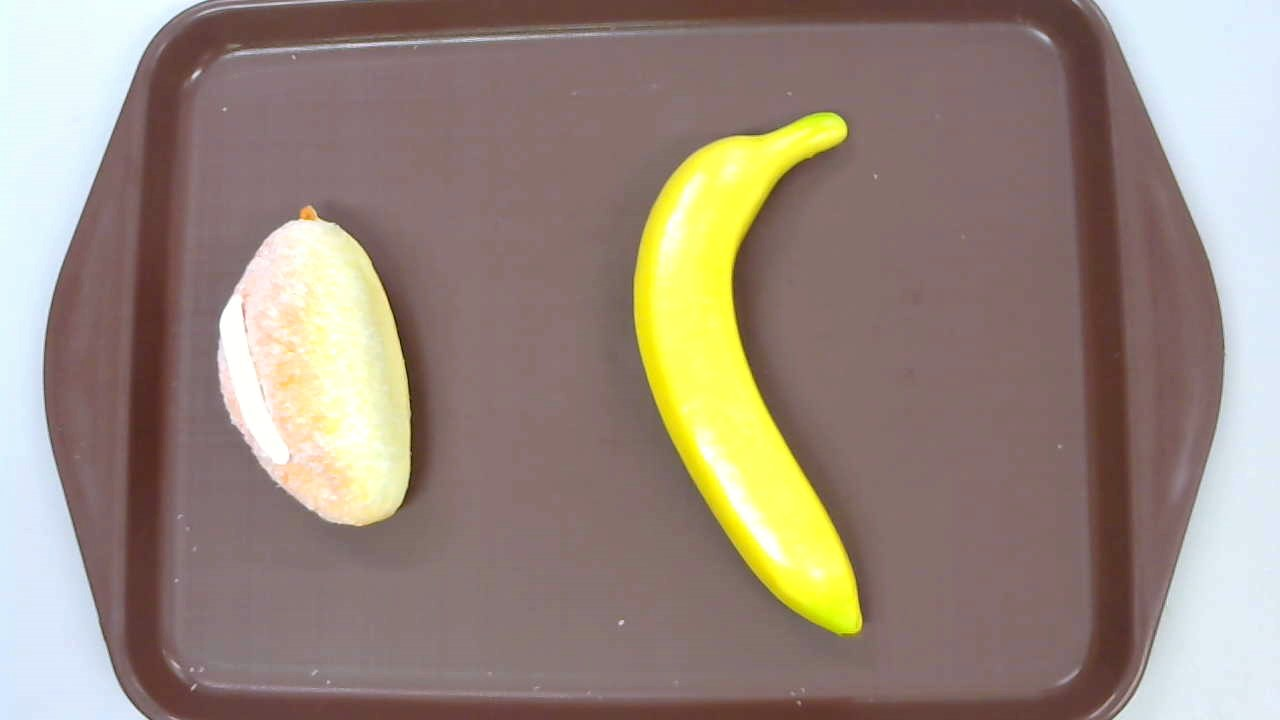banana: (631, 110, 864, 636)
coconut: (216, 203, 411, 527)
